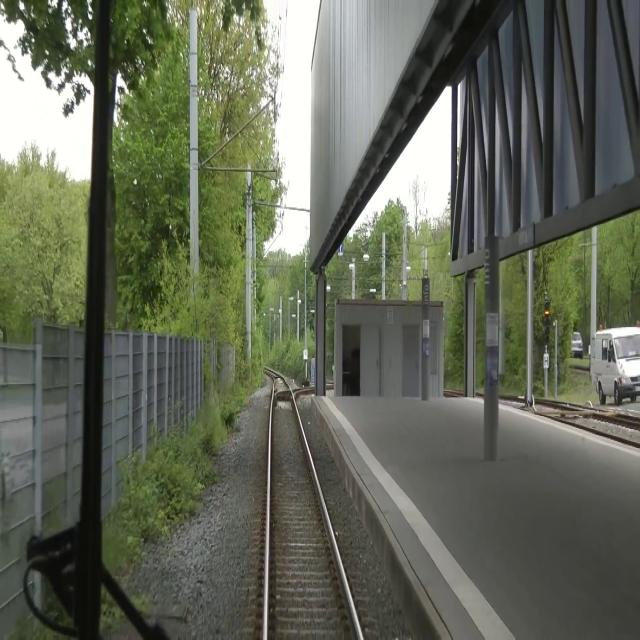rail-track: (269, 393, 359, 639), (275, 376, 286, 388)
